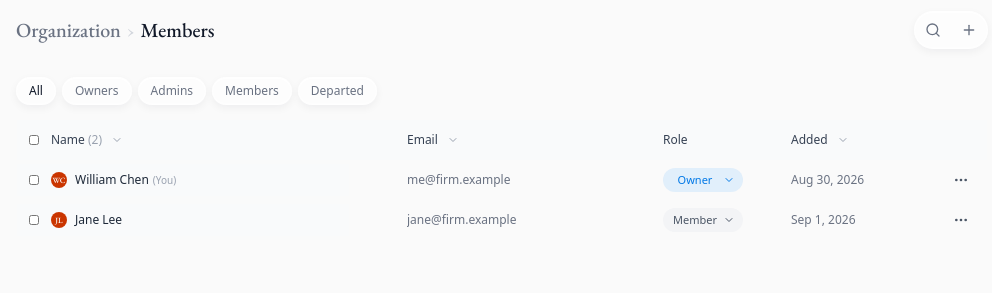
Scenario: OrganizationMembers › narrows the roster from the header's search, by name or email
Expected: the text "William Chen" is shown, [75,172,149,188]
Click the button named "Search members…" at (933, 30), box [919,16,947,44]
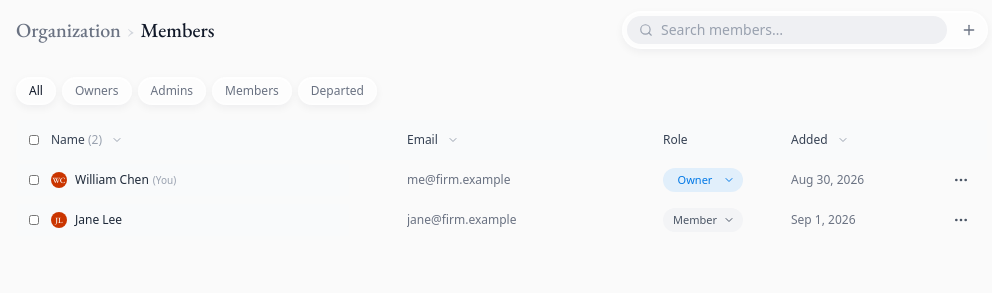
Type "jane@" into the field with placeholder "Search members…" at (798, 30), box [661,20,935,40]
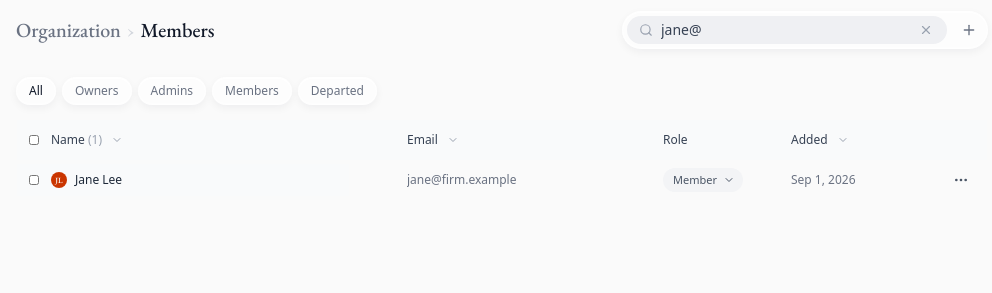
Expected: the text "Jane Lee" is shown, [75,172,122,188]
Expected: the text "William Chen" is gone
Expected: the text "(1)" is shown, [88,131,102,148]
Clear the field with placeholder "Search members…" at (785, 30), box [661,20,909,40]
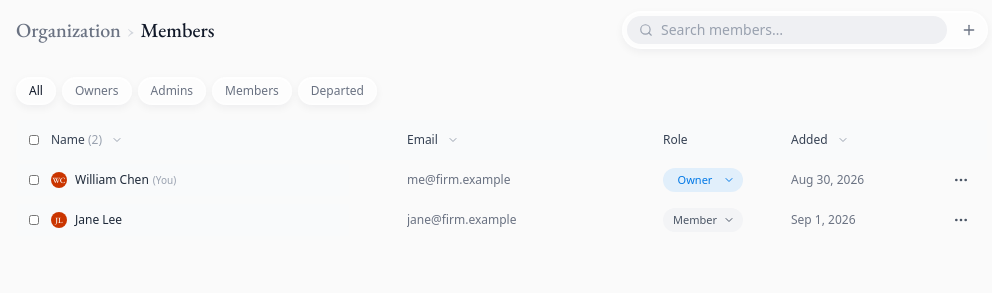
Type "WILLIAM" into the field with placeholder "Search members…" at (798, 30), box [661,20,935,40]
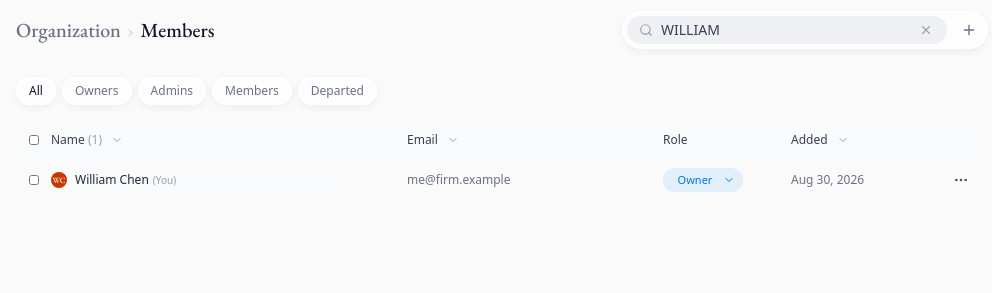
Expected: the text "William Chen" is shown, [75,172,149,188]
Expected: the text "Jane Lee" is gone
Clear the field with placeholder "Search members…" at (785, 30), box [661,20,909,40]
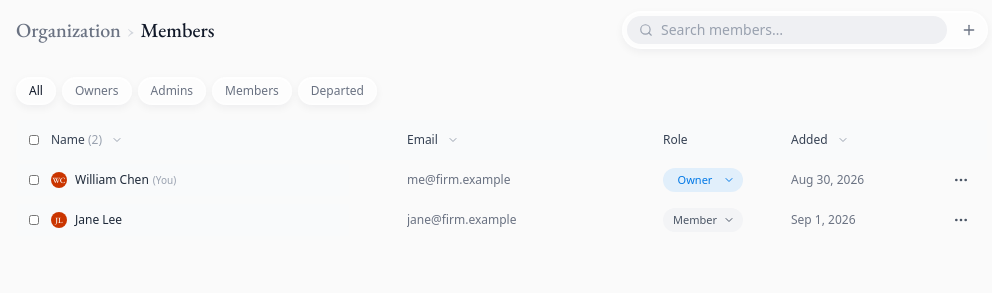
Type "nobody" into the field with placeholder "Search members…" at (798, 30), box [661,20,935,40]
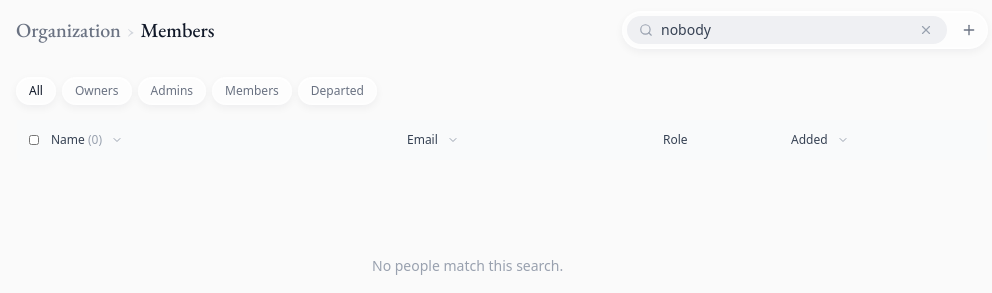
Expected: the text "No people match this search." is shown, [372,256,563,276]
